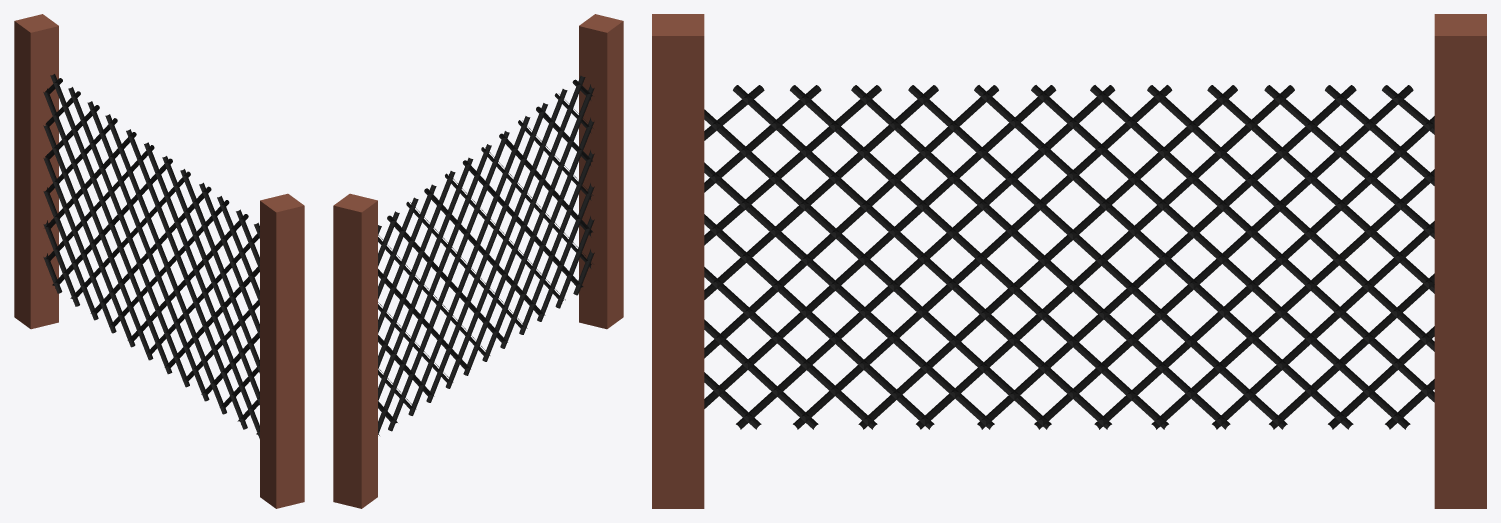
File: fence_04.fbx
3 views of the same model, side by side, from view 1: azimuth 30°, elevation 25°; view 2: azimuth 150°, elevation 25°; view 3: azimuth 270°, elevation 25° (orthographic). The views are drawn at different scales.
Visible parts, largest first — view 1: fence.001; view 2: fence.001; view 3: fence.001.
Part boxes in pixels (x1,y1,x2,y2): fence.001: (14, 14, 304, 508); fence.001: (333, 14, 623, 508); fence.001: (652, 14, 1486, 508).
Bounding box in the file's own units: 160 × 100 × 10.
